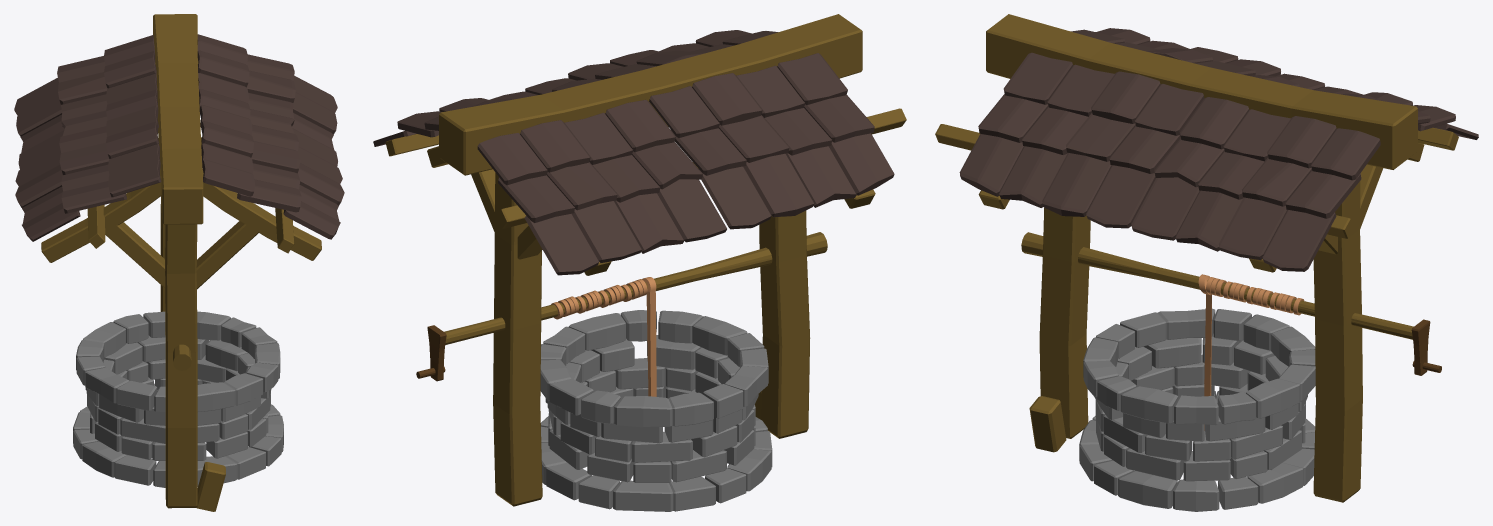
File: Well.fbx
3 views of the same model, side by side, from view 1: azimuth 30°, elevation 25°; view 2: azimuth 150°, elevation 25°; view 3: azimuth 270°, elevation 25° (orthographic). The views are drawn at different scales.
Parts seen in each view (by area): view 1: Empty, Cube.021, Cube.022, Cube.023, Cube.015, Cube.016, Cube.018, Cube.017, Cube.024, Cube.020, Cube.019, Cylinder; view 2: Empty, Cube.015, Cube.023, Cube.021, Cube.022, Cube.016, Cylinder, BezierCircle.001, Cube.017, Cube.020, BezierCircle.002, Cube.014 (+2 smaller); view 3: Empty, Cube.015, Cube.023, Cube.021, Cube.022, Cube.016, Cylinder, Cube.024, BezierCircle.001, Cube.019, Cube.017, Cube.014 (+3 smaller).
Part boxes in pixels (bbox=[...]): Empty: bbox=[73, 311, 283, 487]; Cube.021: bbox=[104, 34, 254, 197]; Cube.022: bbox=[57, 54, 301, 213]; Cube.023: bbox=[14, 76, 344, 241]; Cube.015: bbox=[160, 199, 197, 508]; Cube.016: bbox=[153, 14, 203, 224]; Cube.018: bbox=[41, 58, 321, 262]; Cube.017: bbox=[105, 137, 260, 289]; Cube.024: bbox=[196, 462, 225, 511]; Cube.020: bbox=[87, 205, 105, 248]; Cube.019: bbox=[275, 208, 294, 253]; Cylinder: bbox=[173, 344, 191, 370]; Empty: bbox=[540, 310, 772, 511]; Cube.015: bbox=[493, 172, 810, 506]; Cube.023: bbox=[373, 130, 894, 275]; Cube.021: bbox=[424, 31, 847, 185]; Cube.022: bbox=[397, 30, 874, 222]; Cube.016: bbox=[439, 14, 862, 175]; Cylinder: bbox=[444, 232, 827, 344]; BezierCircle.001: bbox=[551, 279, 647, 319]; Cube.017: bbox=[471, 169, 542, 259]; Cube.020: bbox=[496, 108, 906, 228]; BezierCircle.002: bbox=[642, 277, 656, 396]; Cube.014: bbox=[416, 325, 446, 381]; Empty: bbox=[1079, 308, 1315, 511]; Cube.015: bbox=[1039, 181, 1362, 502]; Cube.023: bbox=[959, 123, 1478, 271]; Cube.021: bbox=[1003, 29, 1430, 180]; Cube.022: bbox=[978, 28, 1455, 218]; Cube.016: bbox=[986, 14, 1417, 169]; Cylinder: bbox=[1021, 232, 1413, 339]; Cube.024: bbox=[1029, 396, 1066, 452]; BezierCircle.001: bbox=[1206, 277, 1304, 315]; Cube.019: bbox=[935, 124, 1353, 238]; Cube.017: bbox=[1319, 164, 1383, 254]; Cube.014: bbox=[1411, 319, 1441, 375].
Size of the model in its own units: 541 by 477 by 586.
